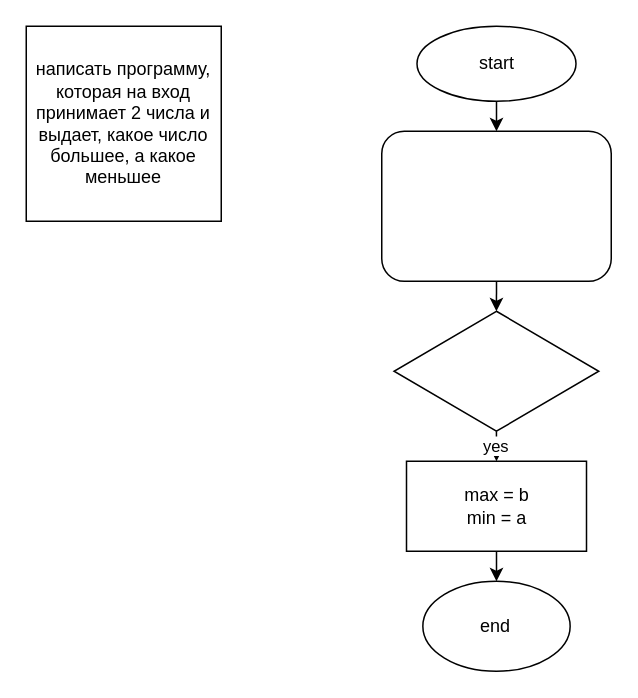
Image size: 638x698. Some labels were removed from this diagram. The centre of each missing label's shape, as x and y in pixels:
a = 5 ; b = 7 -> max = 7 a = 2 ; b = 10 -> max =10 a = - 9; b = -3 -> max = -3: the point at 495,205
b > a: the point at 496,370
